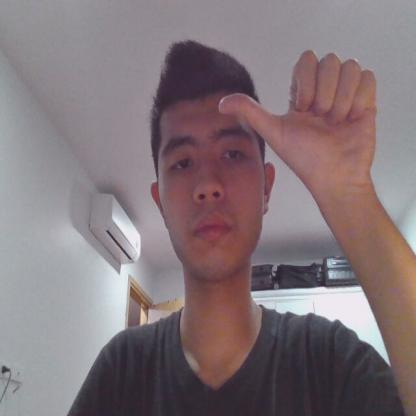right: (219, 48, 378, 186)
